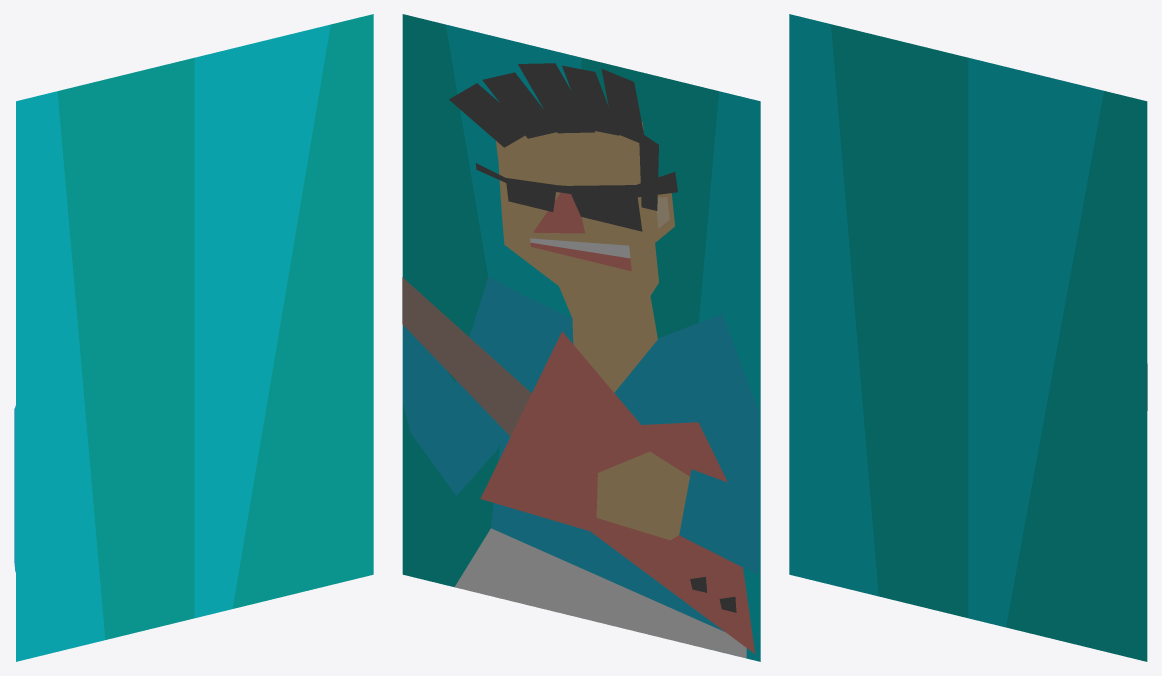
The model's file is Rock_Band_Poster_01.gltf.
The picture shows the model from 3 angles, left to right: view 1: azimuth 30°, elevation 25°; view 2: azimuth 150°, elevation 25°; view 3: azimuth 330°, elevation 25°; orthographic projection.
Parts seen in each view (by area): view 1: node-0; view 2: node-0; view 3: node-0.
Part boxes in pixels (<box>): node-0: <box>14,14,373,661</box>; node-0: <box>402,14,760,661</box>; node-0: <box>789,14,1147,661</box>.
Size of the model in its own units: 9.96 by 14.91 by 0.08.
